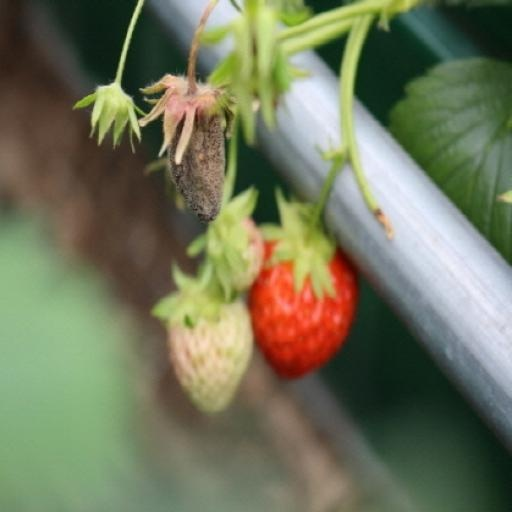Gray Mold: (274, 52, 375, 225)
